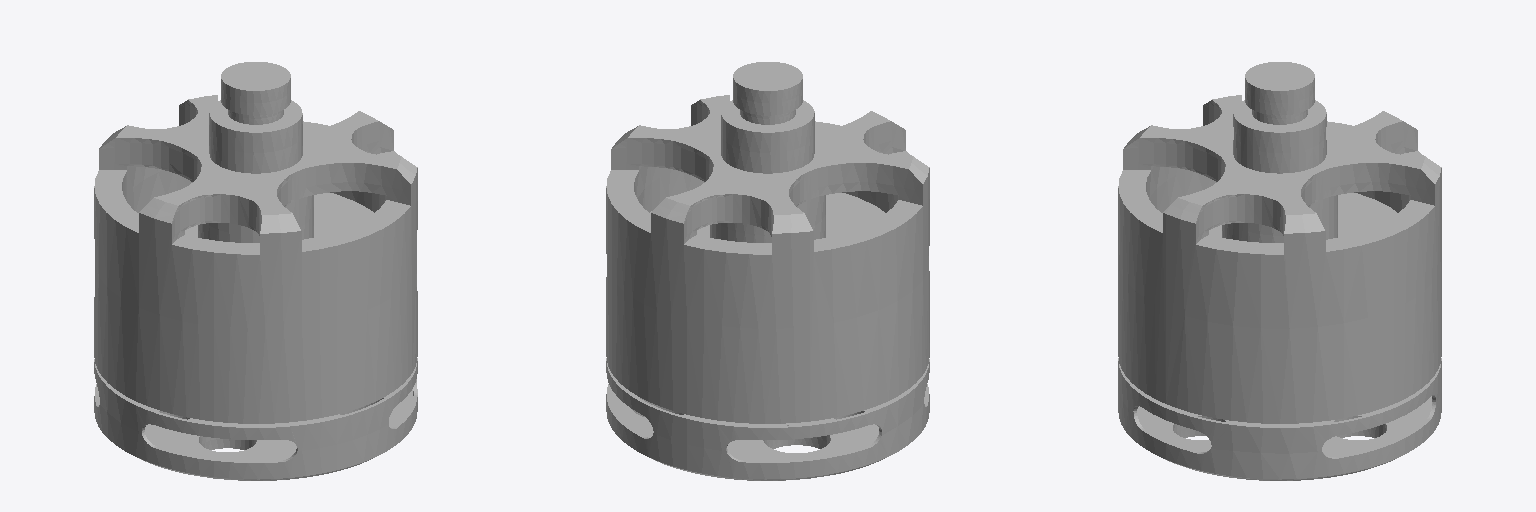
File: f330_rotor.obj
3 renders of one model, left to right at view 1: azimuth 30°, elevation 25°; view 2: azimuth 150°, elevation 25°; view 3: azimuth 270°, elevation 25°, orthographic.
Visible parts, largest first — view 1: obj1; view 2: obj1; view 3: obj1.
Boxes of the visible parts, box(x1,y1,x2,y2) form: obj1: box(94, 62, 417, 480); obj1: box(606, 62, 929, 480); obj1: box(1118, 62, 1441, 480).
Bounding box in the file's own units: 0.0331 × 0.0406 × 0.0331.